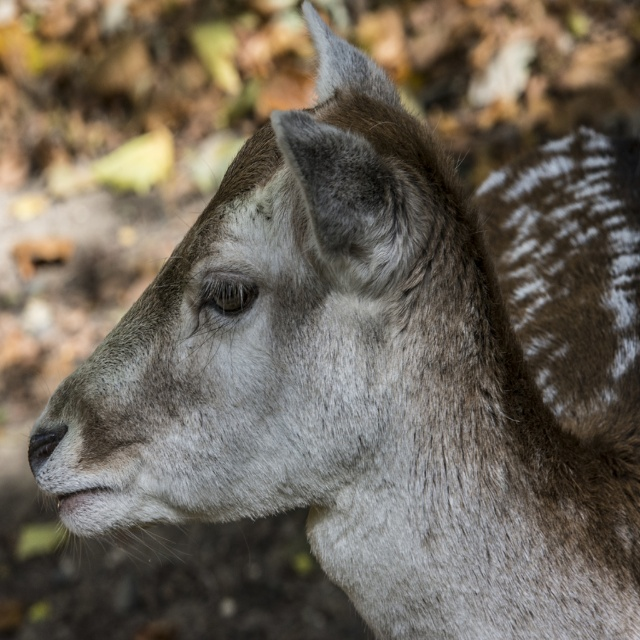Deer: (29, 0, 640, 639)
